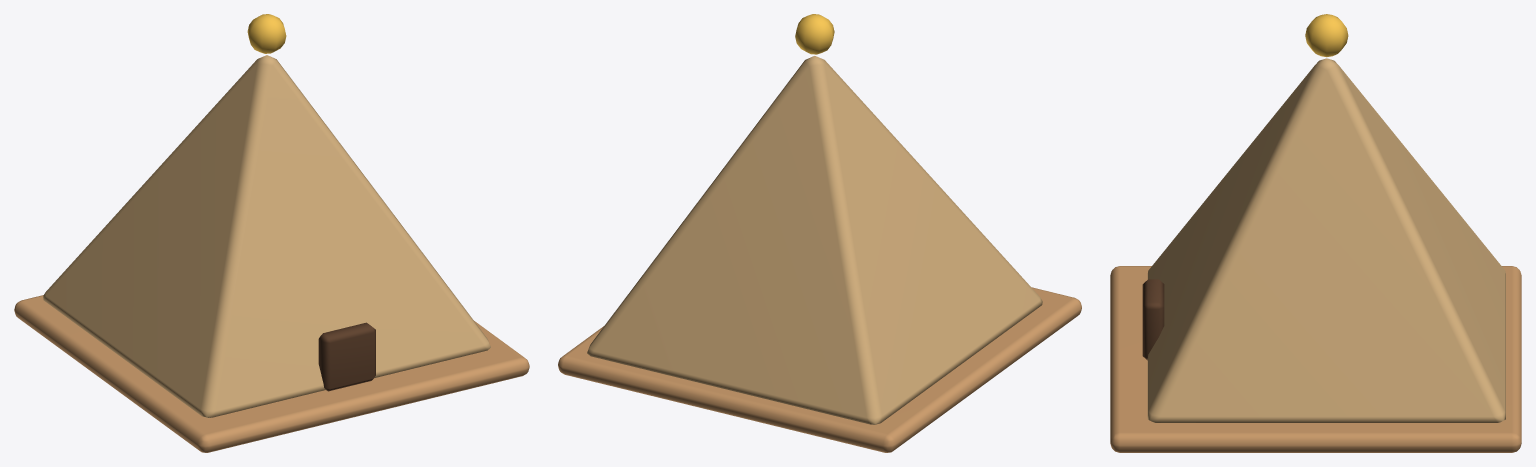
3 renders of one model, left to right at view 1: azimuth 30°, elevation 25°; view 2: azimuth 150°, elevation 25°; view 3: azimuth 270°, elevation 25°, orthographic. The views are drawn at different scales.
Parts seen in each view (by area): view 1: Cube; view 2: Cube; view 3: Cube.
Boxes of the visible parts, x1,y1,x2,y2 form: Cube: [14, 14, 529, 452]; Cube: [558, 14, 1081, 452]; Cube: [1110, 14, 1521, 452].
Size of the model in its own units: 0.76 by 0.72 by 0.76.
